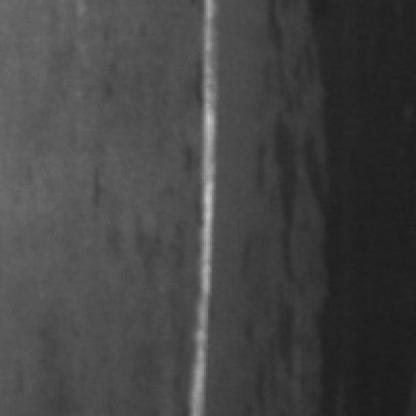inclusion: (260, 0, 410, 408)
scratches: (181, 0, 223, 412)
